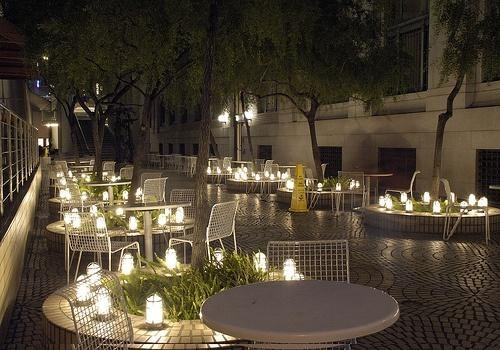chair: (54, 270, 136, 350), (61, 211, 142, 273), (169, 199, 240, 262), (265, 240, 351, 283), (441, 181, 493, 244), (330, 171, 368, 214), (170, 189, 199, 223), (387, 172, 422, 199), (143, 177, 167, 204)
diningtable: (200, 272, 403, 346), (97, 201, 192, 266)
